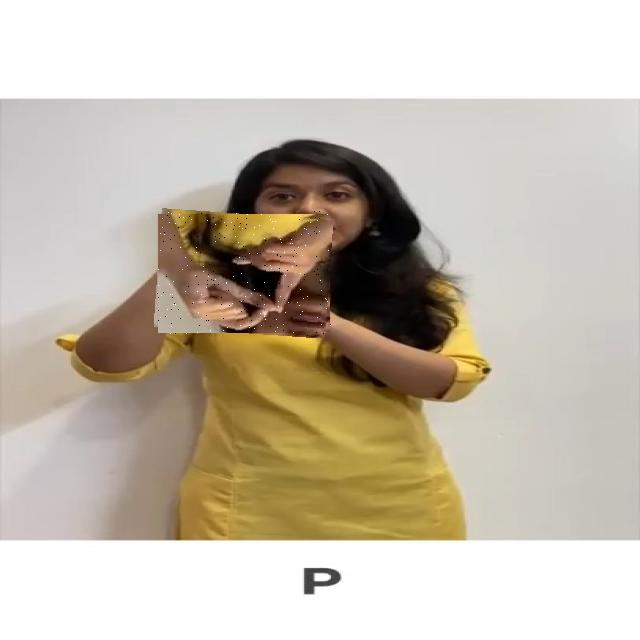P: (156, 211, 332, 336)
